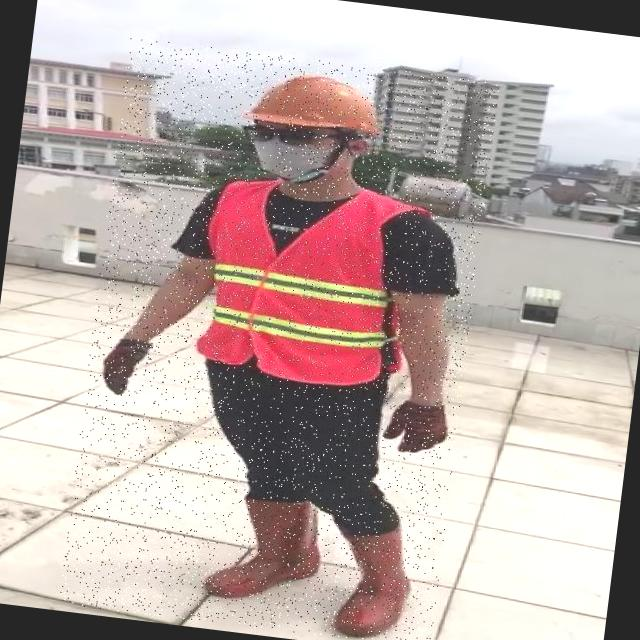boots: (200, 486, 326, 608), (326, 520, 417, 640)
gloves: (378, 374, 473, 469), (90, 323, 166, 408)
helmet: (242, 60, 392, 140)
vest: (189, 172, 414, 390)
